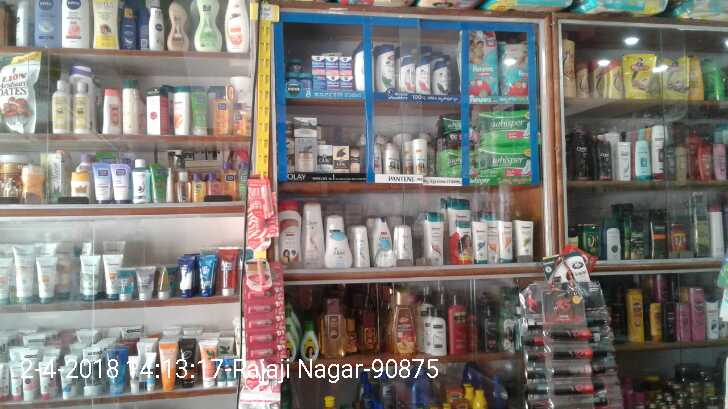vicks: (313, 51, 354, 90), (288, 55, 312, 91)
